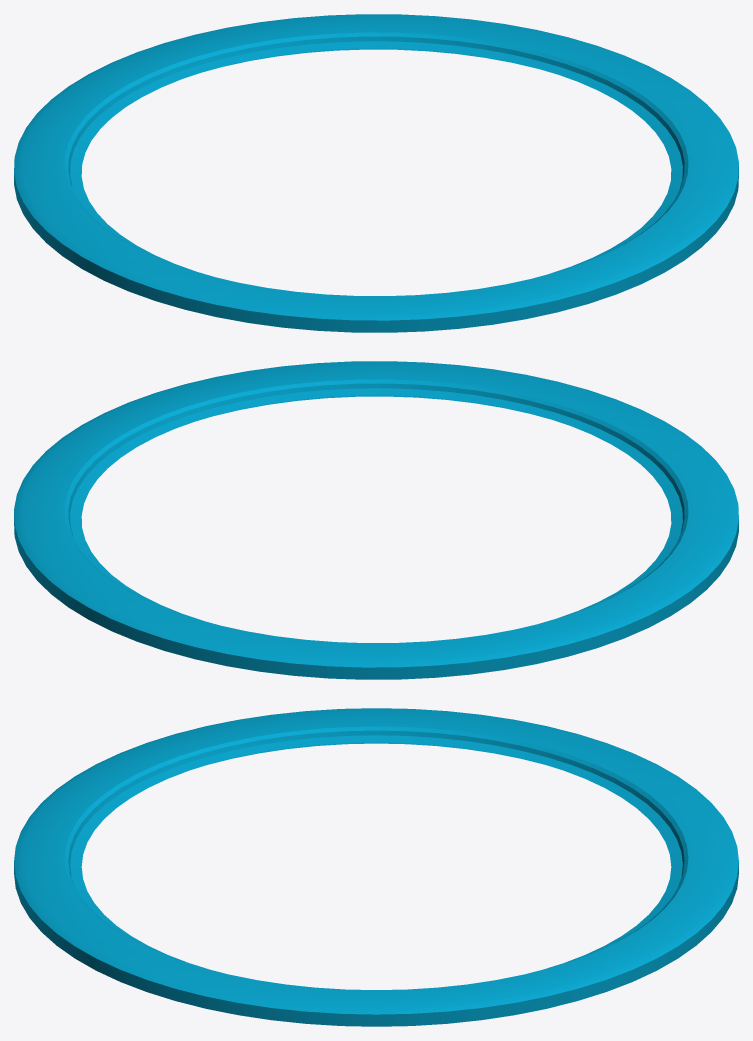
Rendered from 01-Gauge-Cover.fbx.
3 views of the same model, one above another, from view 1: azimuth 30°, elevation 25°; view 2: azimuth 150°, elevation 25°; view 3: azimuth 270°, elevation 25° (orthographic).
Visible parts, largest first — view 1: 01-Gauge-Cover; view 2: 01-Gauge-Cover; view 3: 01-Gauge-Cover.
Boxes of the visible parts, x1,y1,x2,y2 form: 01-Gauge-Cover: [14, 14, 738, 332]; 01-Gauge-Cover: [14, 361, 738, 679]; 01-Gauge-Cover: [14, 708, 738, 1026].
Size of the model in its own units: 242 by 5.63 by 242.
